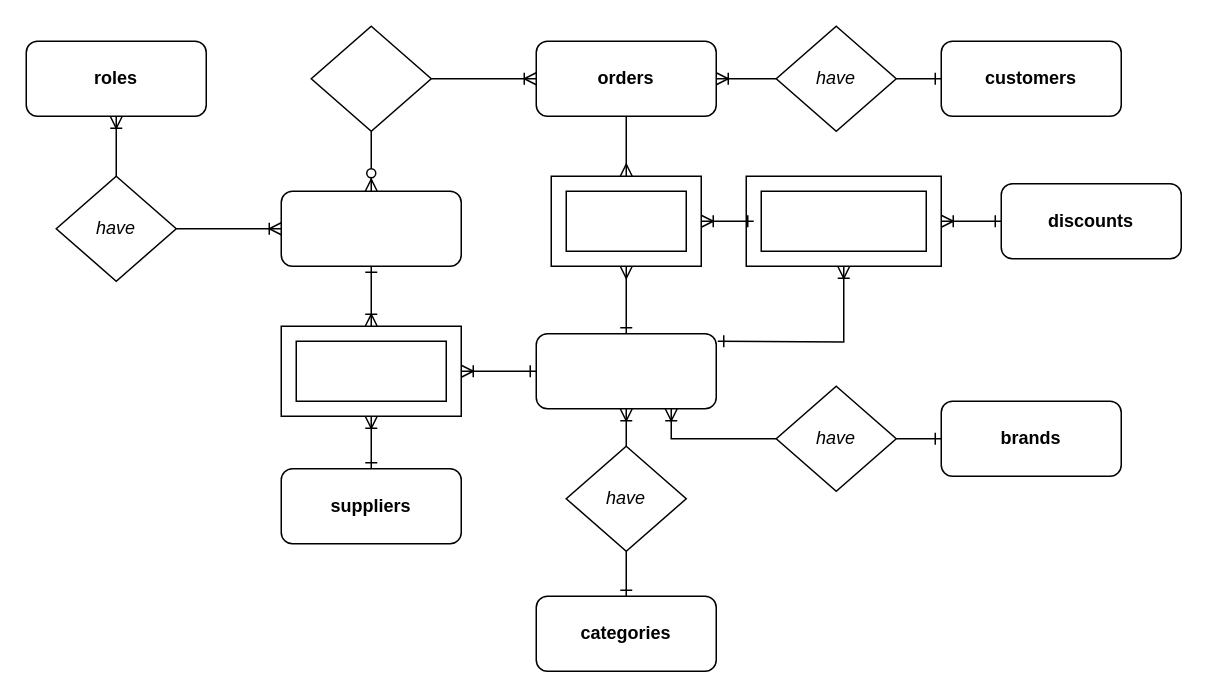
This 1208x698 diagram has some shape labels left out. The box of each missing label's shape, as (x1, y1, x2, y2) in pixels:
employees: (280, 190, 461, 266)
import_products: (280, 325, 461, 416)
order_items: (550, 175, 701, 266)
process: (310, 25, 431, 131)
product_discount: (745, 175, 941, 266)
products: (535, 332, 716, 409)
